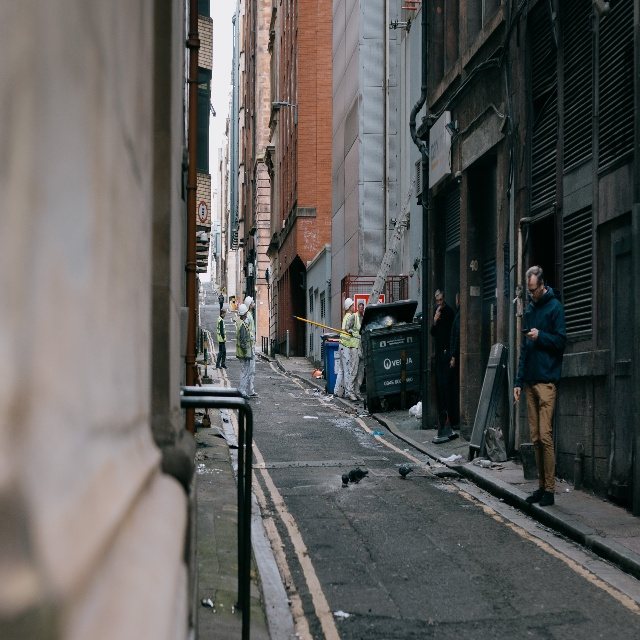Gafas: (528, 284, 539, 293)
Guantes: (347, 328, 354, 337), (244, 354, 248, 362)
Sin_guantes: (524, 328, 539, 341), (434, 304, 442, 321), (514, 385, 521, 402), (450, 357, 455, 368), (541, 280, 544, 290)
